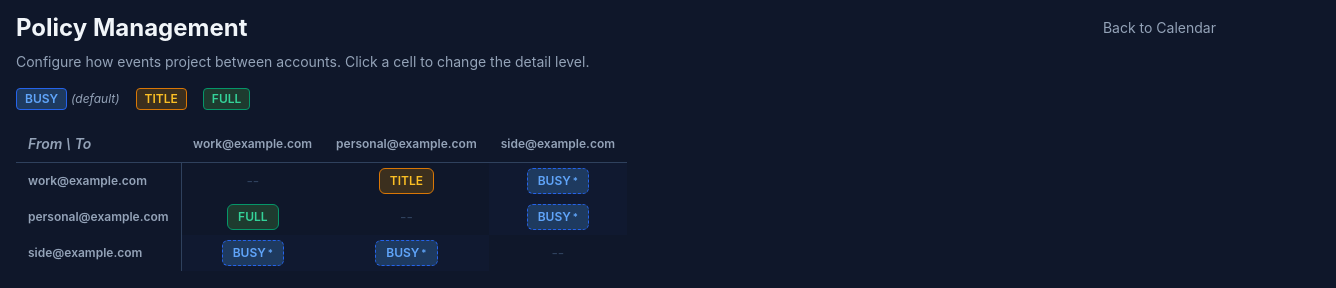
Test: Policies Page › save feedback › shows success message after successful save
Click the button with test id "cell-btn-acc-work-acc-personal": (406, 181) [379,168,434,194]
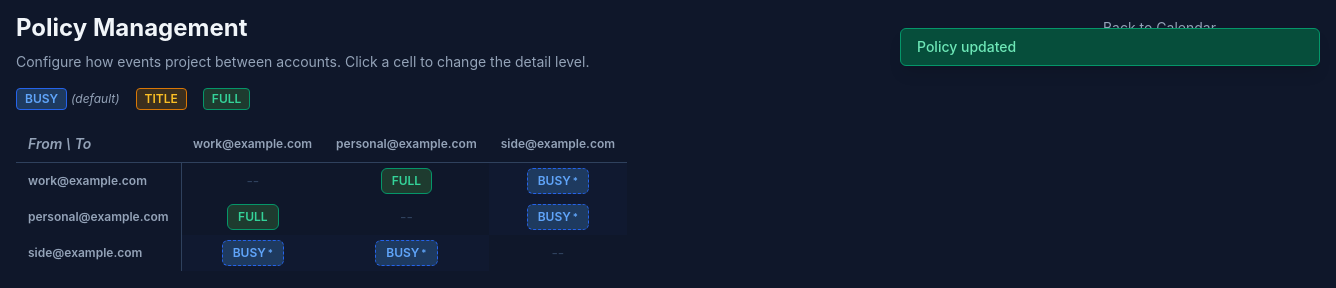
Expected: the message with test id "policy-status" reads "Policy updated", [917,38,1016,55]
